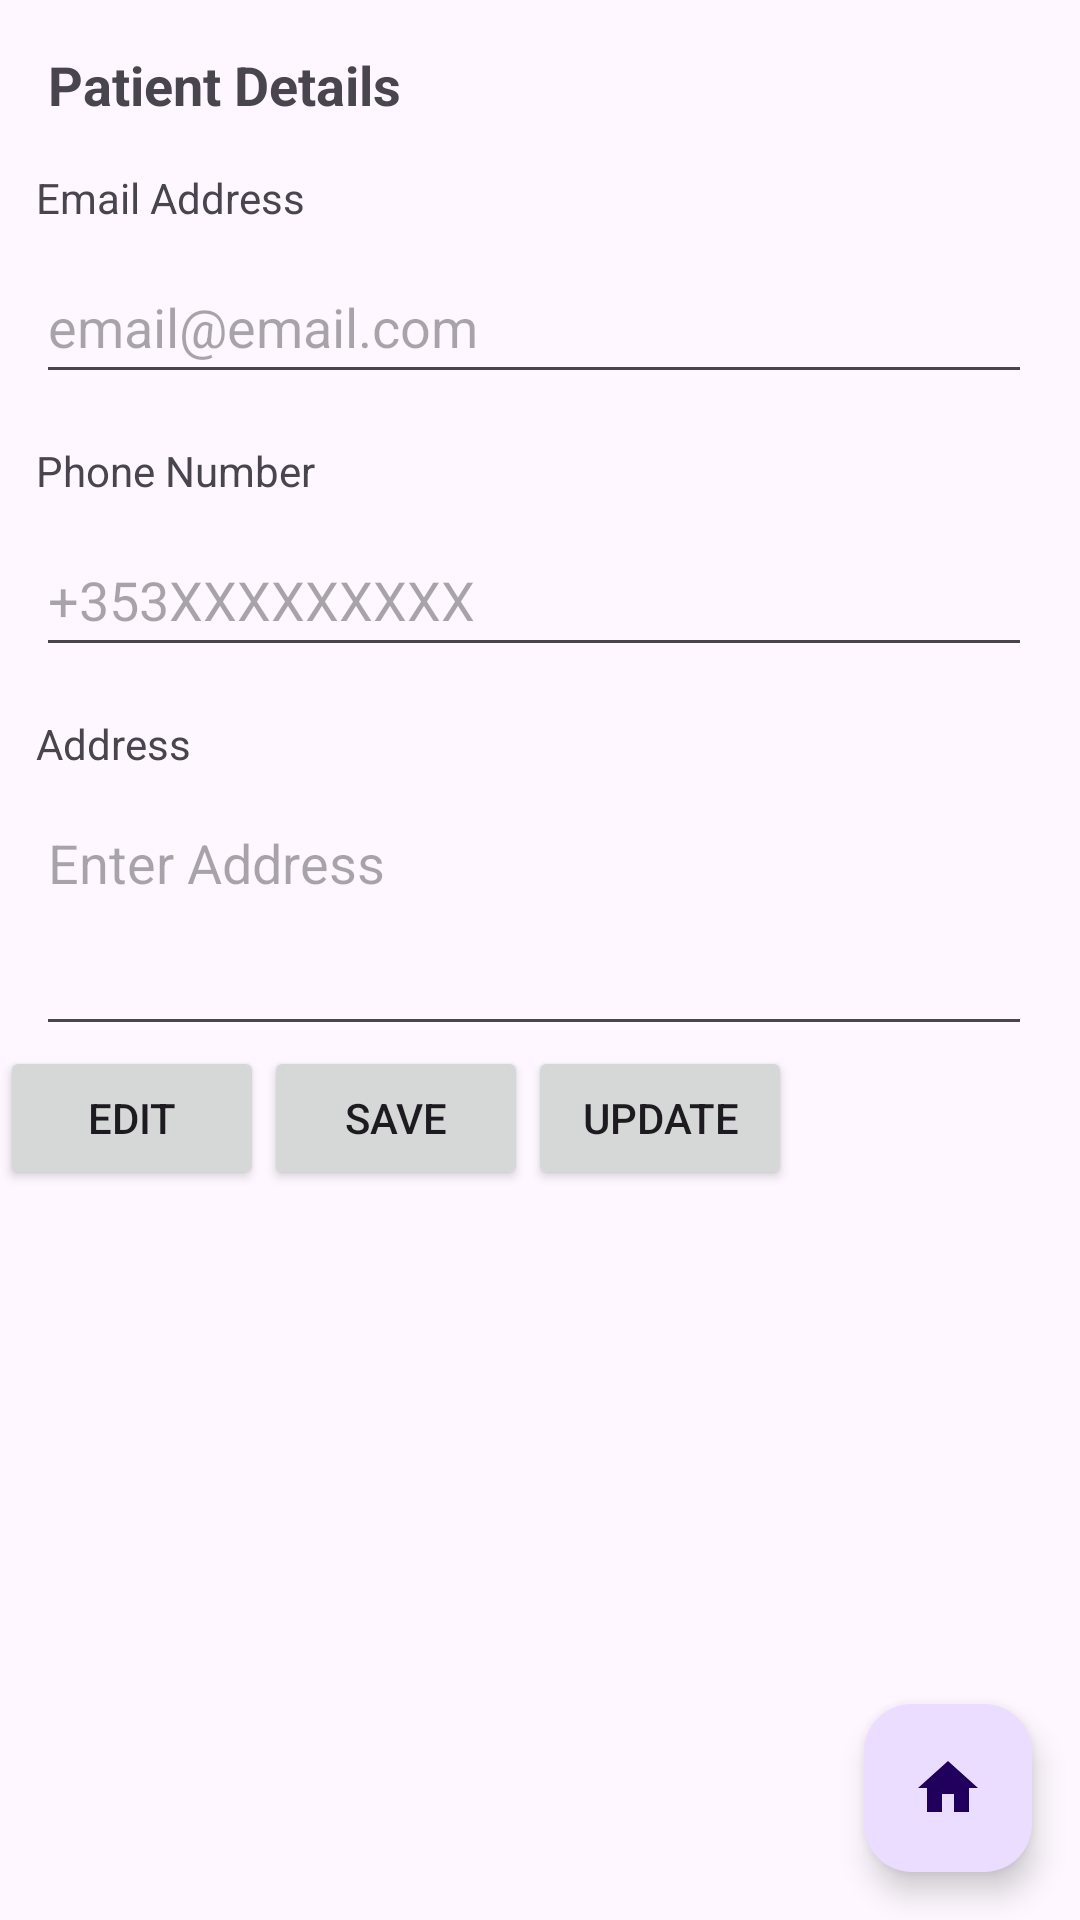

Icon bounding boxes for this 1080px×1920px phone screenshot, format (x1, y1, x2, y2):
Home button: (864, 1704, 1032, 1872)
